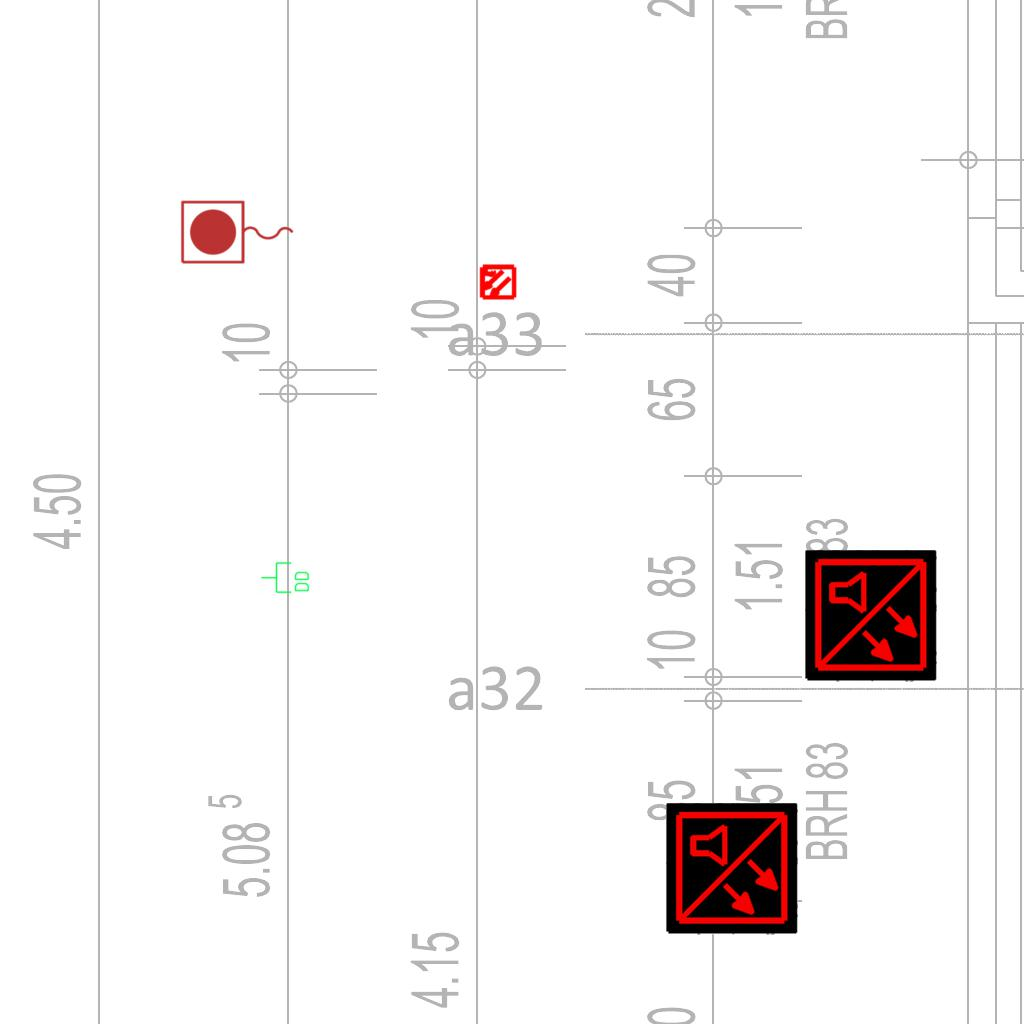Datenanschluss_zweifach: (260, 561, 311, 595)
OKW_Multisensormelder_(Kombination_optischer_Rauch-Kahlenmonoxid_Waerme-Melder): (805, 550, 937, 682), (666, 803, 798, 935)
OT_Multisensormelder_(Kombination_RMO_WMD): (469, 254, 525, 310)
Zugtaster: (177, 197, 299, 269)
